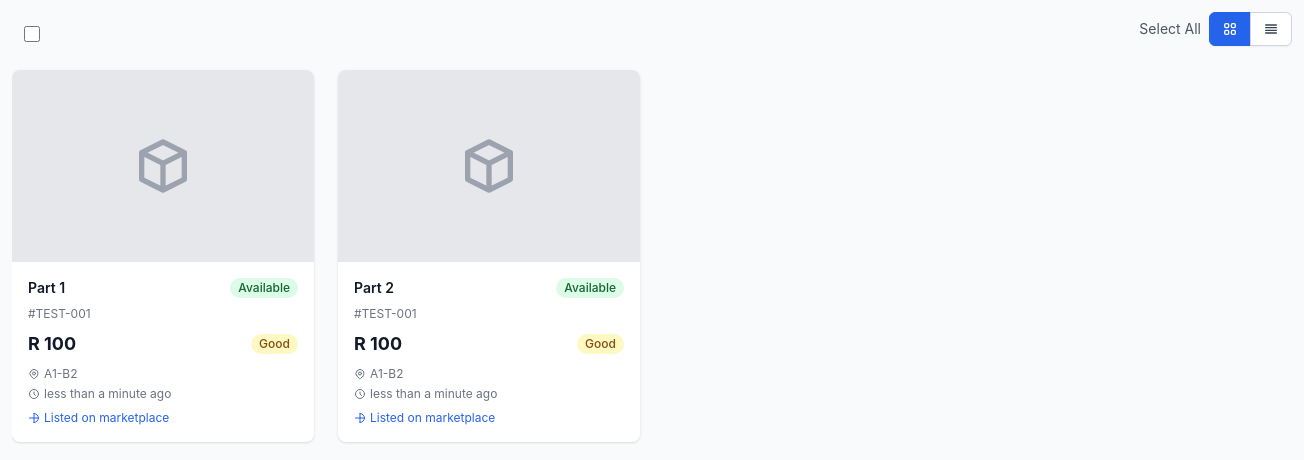
Scenario: PartsList › Select All Functionality › selects all parts when Select All is clicked
Click the button "Select All" at (1170, 29), box [1139,19,1201,39]
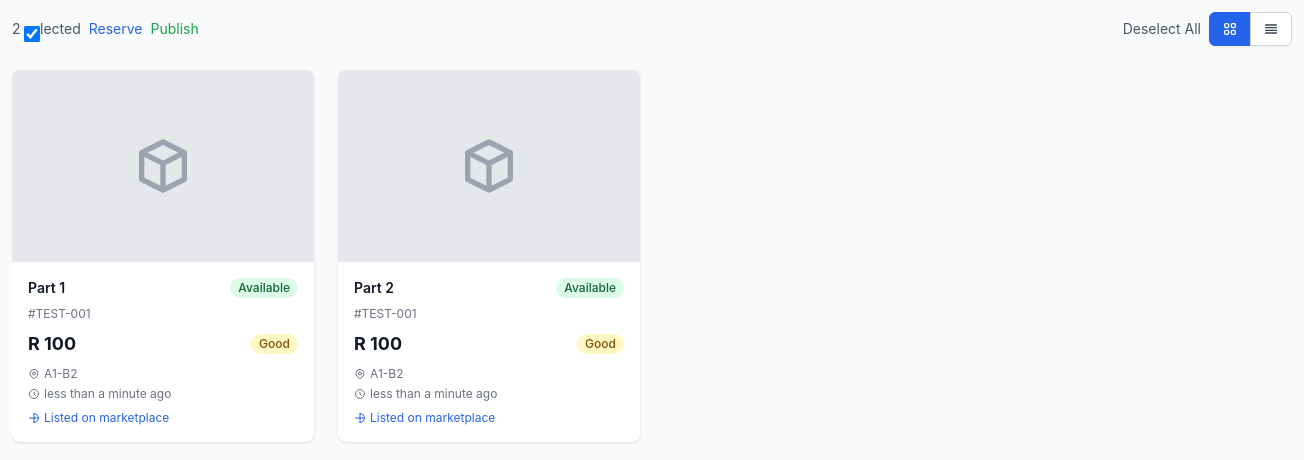
Check: the 1st checkbox is checked, box [24,26,40,42]
Check: the checkbox is checked, box [24,26,40,42]
